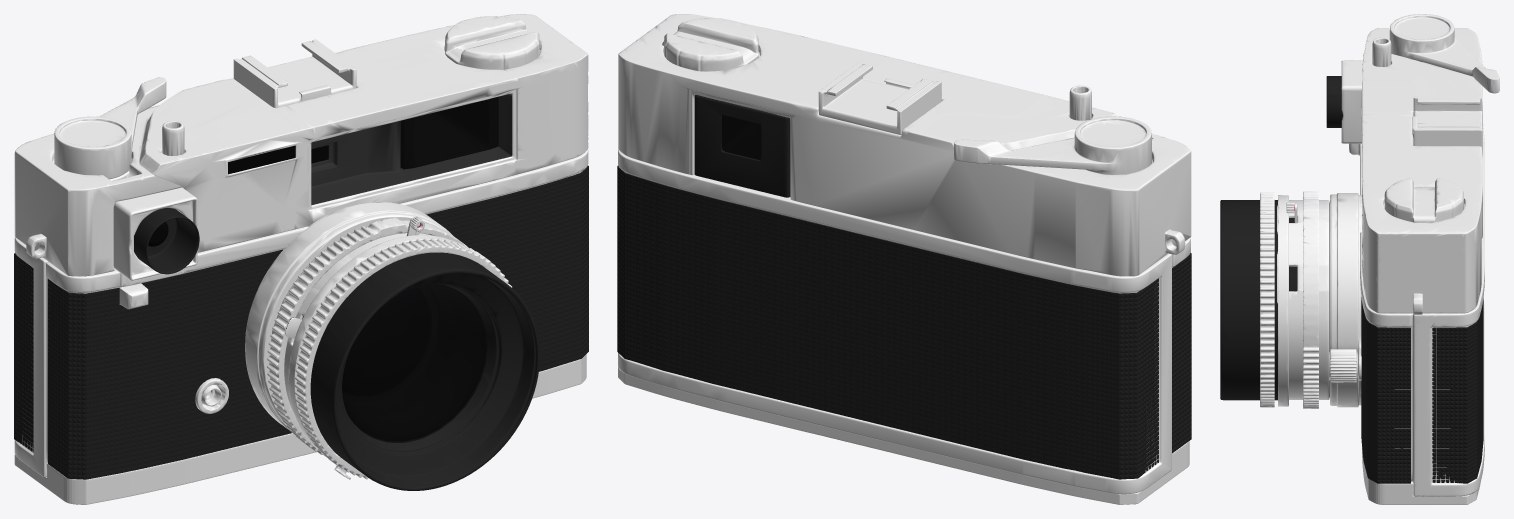
Rendered from camera.glb.
3 views of the same model, side by side, from view 1: azimuth 30°, elevation 25°; view 2: azimuth 150°, elevation 25°; view 3: azimuth 270°, elevation 25° (orthographic). The views are drawn at different scales.
Visible parts, largest first — view 1: Body_Material.001_0, Body Belt_Material_0, Lens Glass 1_Material.003_0, Flash Glass_Material.004_0; view 2: Body Belt_Material_0, Body_Material.001_0, Lens Glass 1_Material.003_0; view 3: Body_Material.001_0, Body Belt_Material_0.
Part boxes in pixels (x1,y1,x2,y2): Body_Material.001_0: (14, 14, 588, 504); Body Belt_Material_0: (14, 97, 588, 490); Lens Glass 1_Material.003_0: (311, 94, 511, 442); Flash Glass_Material.004_0: (148, 145, 327, 246); Body Belt_Material_0: (617, 95, 1191, 479); Body_Material.001_0: (618, 14, 1191, 504); Lens Glass 1_Material.003_0: (721, 115, 761, 159); Body_Material.001_0: (1260, 14, 1499, 504); Body Belt_Material_0: (1220, 76, 1483, 483).
Size of the model in its own units: 0.1858 by 0.113 by 0.0969.
Materials: 5 (5 with a texture image).
